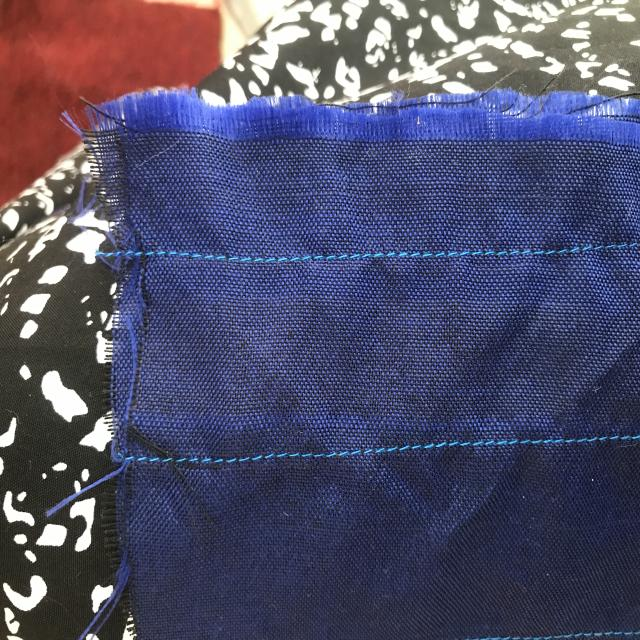good: (424, 432, 589, 456), (233, 246, 358, 270), (234, 447, 384, 466), (386, 244, 532, 262)
